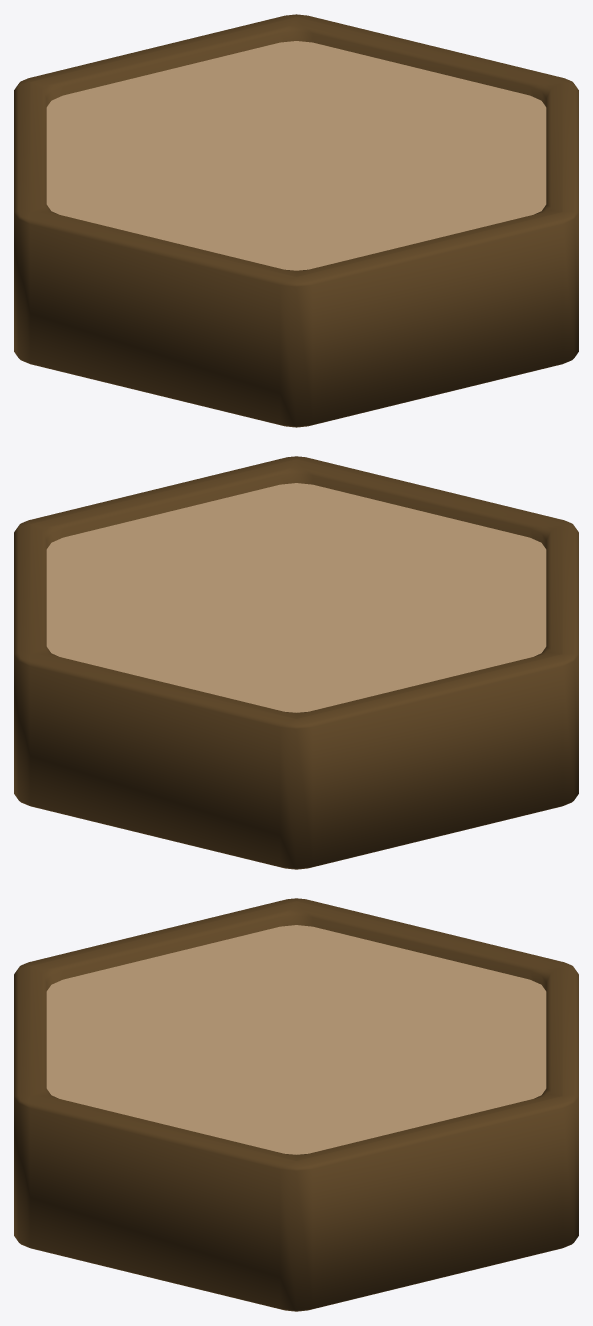
The model's file is LowpolyHex.fbx.
The picture shows the model from 3 angles, top to bottom: view 1: azimuth 30°, elevation 25°; view 2: azimuth 150°, elevation 25°; view 3: azimuth 270°, elevation 25°; orthographic projection.
Parts seen in each view (by area): view 1: Cylinder.006, Cylinder.011; view 2: Cylinder.006, Cylinder.011; view 3: Cylinder.006, Cylinder.011.
Boxes of the visible parts, left/top/right/bottom form: Cylinder.006: left=14, top=14, right=578, bottom=427; Cylinder.011: left=46, top=41, right=546, bottom=270; Cylinder.006: left=14, top=456, right=578, bottom=869; Cylinder.011: left=46, top=483, right=546, bottom=712; Cylinder.006: left=14, top=898, right=578, bottom=1311; Cylinder.011: left=46, top=925, right=546, bottom=1154.
Bounding box in the file's own units: 197 × 173 × 50.
